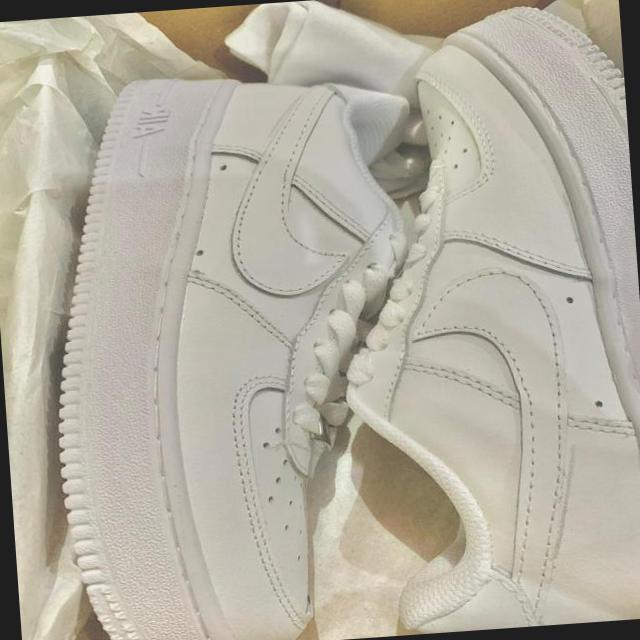nike_fake_airforce: (37, 77, 438, 640), (317, 0, 640, 638)
